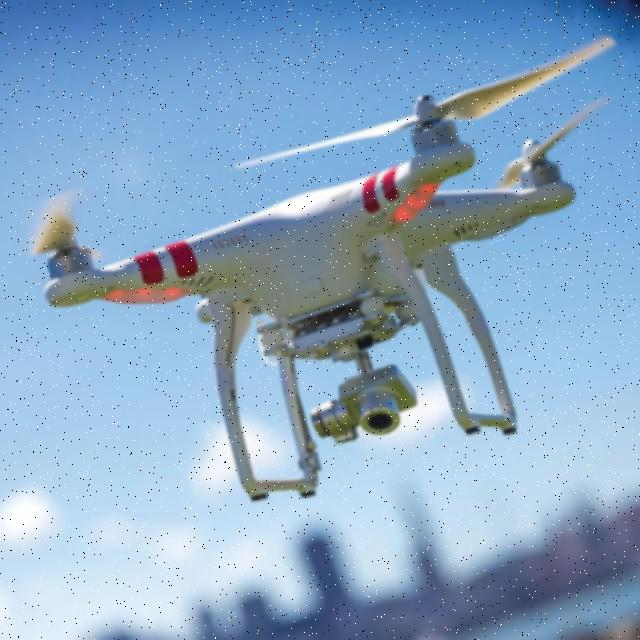UAV: (42, 94, 579, 497)
